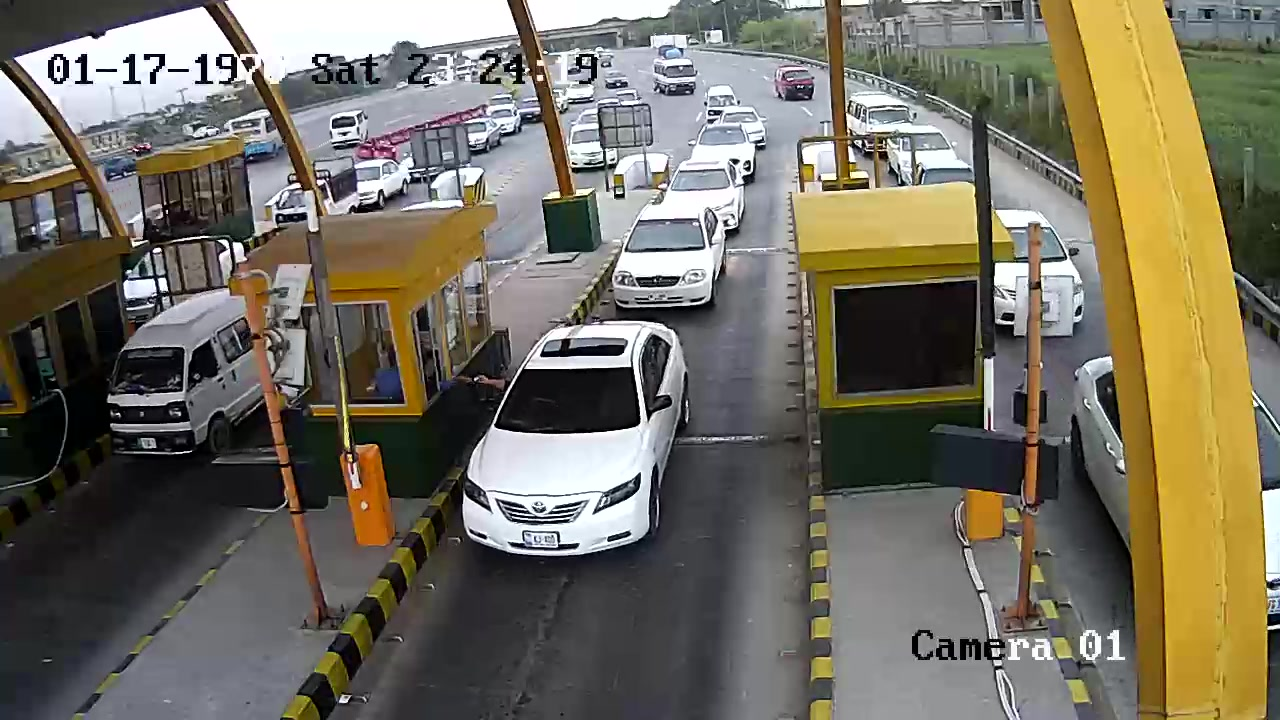F1: (458, 316, 708, 570)
